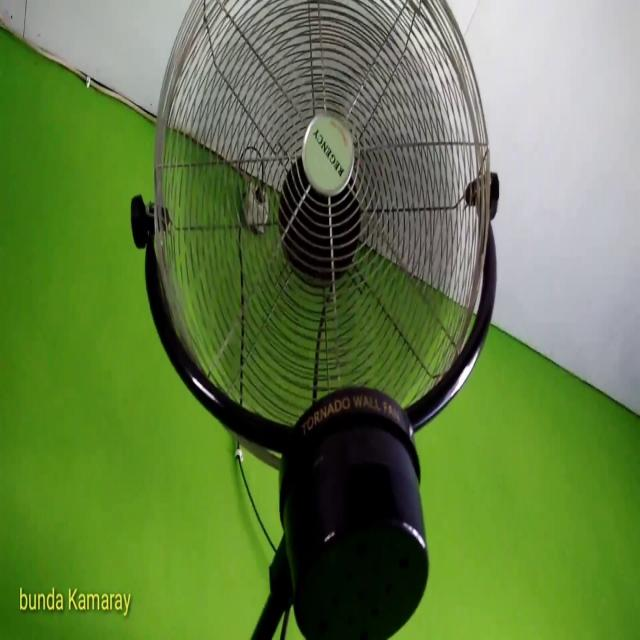fan: (126, 0, 507, 640)
